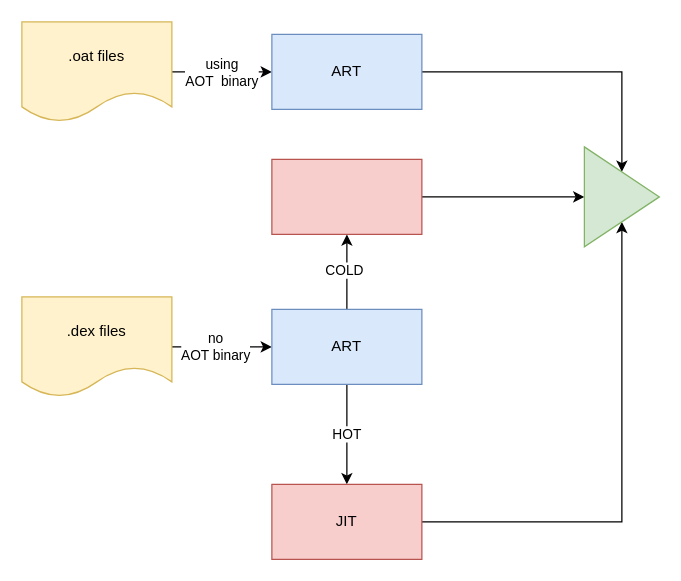
This 681x581 diagram has some shape labels left out. Here are the shapes that lost their labels. From the top down, the box of each, then its label:
(271, 158, 422, 234): Interpreter
(583, 146, 659, 247): APP run
